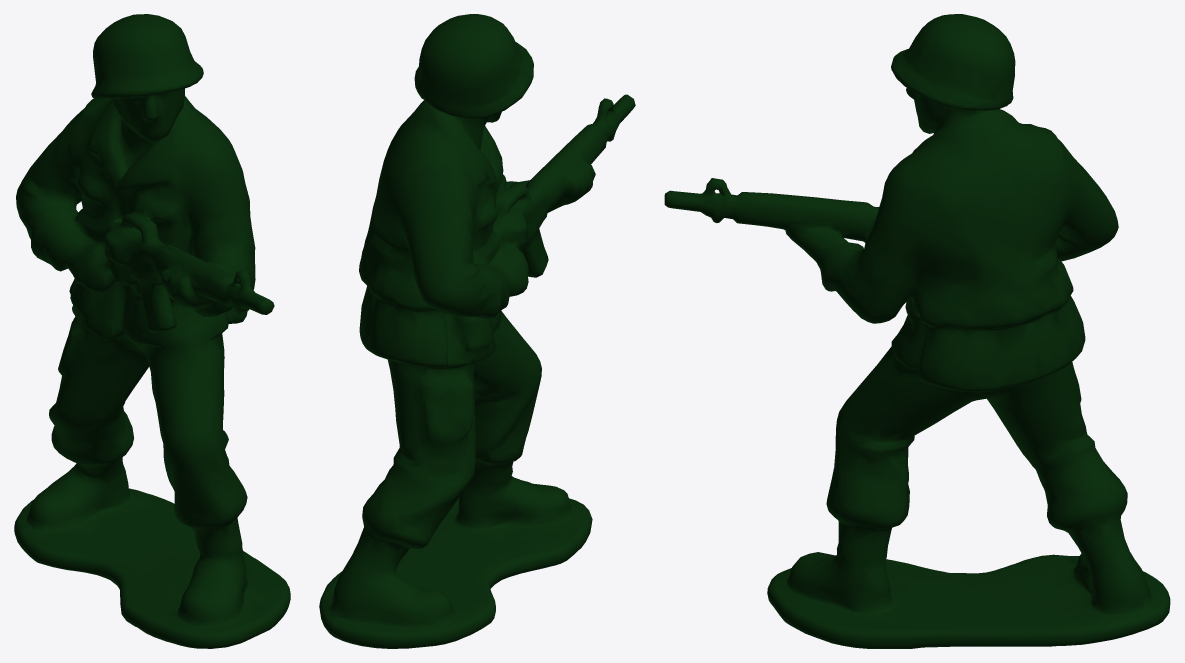
File: GreenSoldier.fbx
3 renders of one model, left to right at view 1: azimuth 30°, elevation 25°; view 2: azimuth 150°, elevation 25°; view 3: azimuth 270°, elevation 25°, orthographic. The views are drawn at different scales.
Visible parts, largest first — view 1: tmpa39g_we8.ply; view 2: tmpa39g_we8.ply; view 3: tmpa39g_we8.ply.
Part boxes in pixels (left/top/right/bottom): tmpa39g_we8.ply: left=14, top=14, right=290, bottom=648; tmpa39g_we8.ply: left=319, top=14, right=635, bottom=648; tmpa39g_we8.ply: left=664, top=14, right=1170, bottom=648.
Size of the model in its own units: 28.05 by 88.98 by 69.97.
